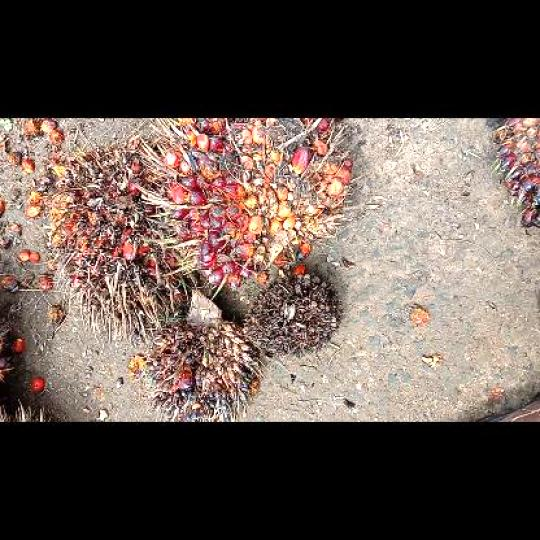masak: (148, 118, 352, 287)
terlalu masak: (48, 144, 188, 326)
